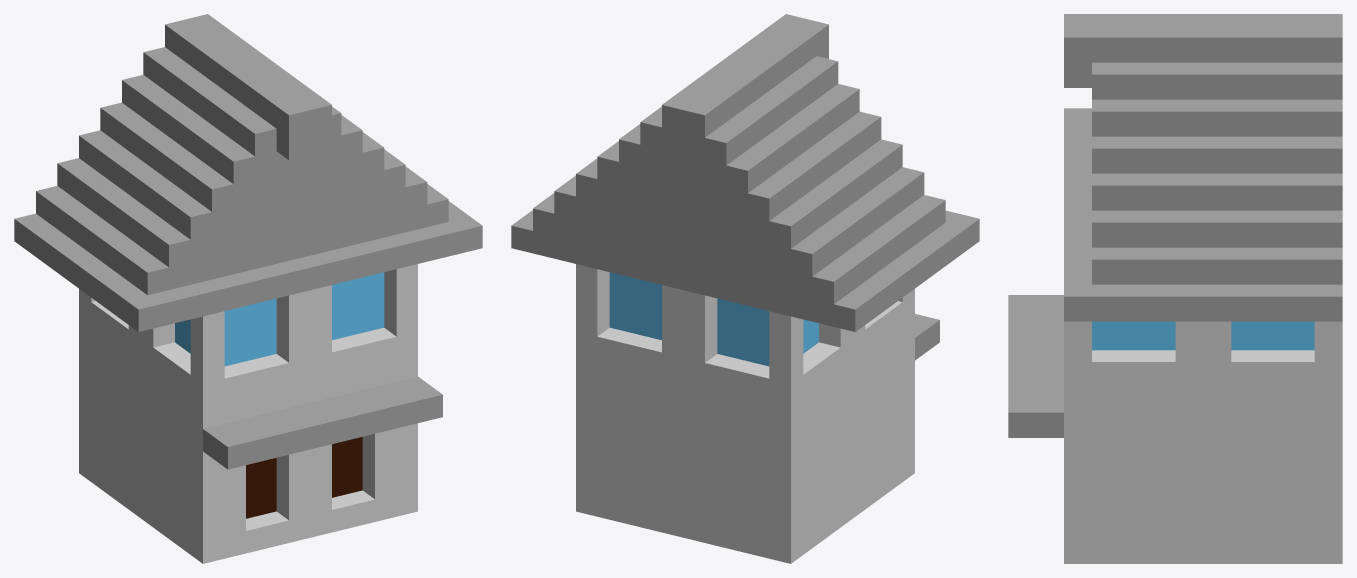
The model's file is House 5.obj.
3 renders of one model, left to right at view 1: azimuth 30°, elevation 25°; view 2: azimuth 150°, elevation 25°; view 3: azimuth 270°, elevation 25°, orthographic. The views are drawn at different scales.
Bounding box in the file's own units: 1.6 × 1.9 × 1.2.
Materials: 1 (1 with a texture image).
